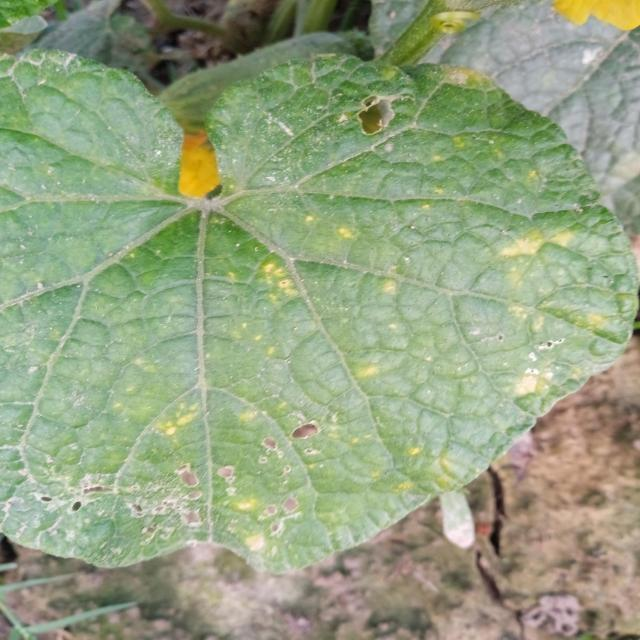cucumber_downy: (0, 111, 626, 536)
